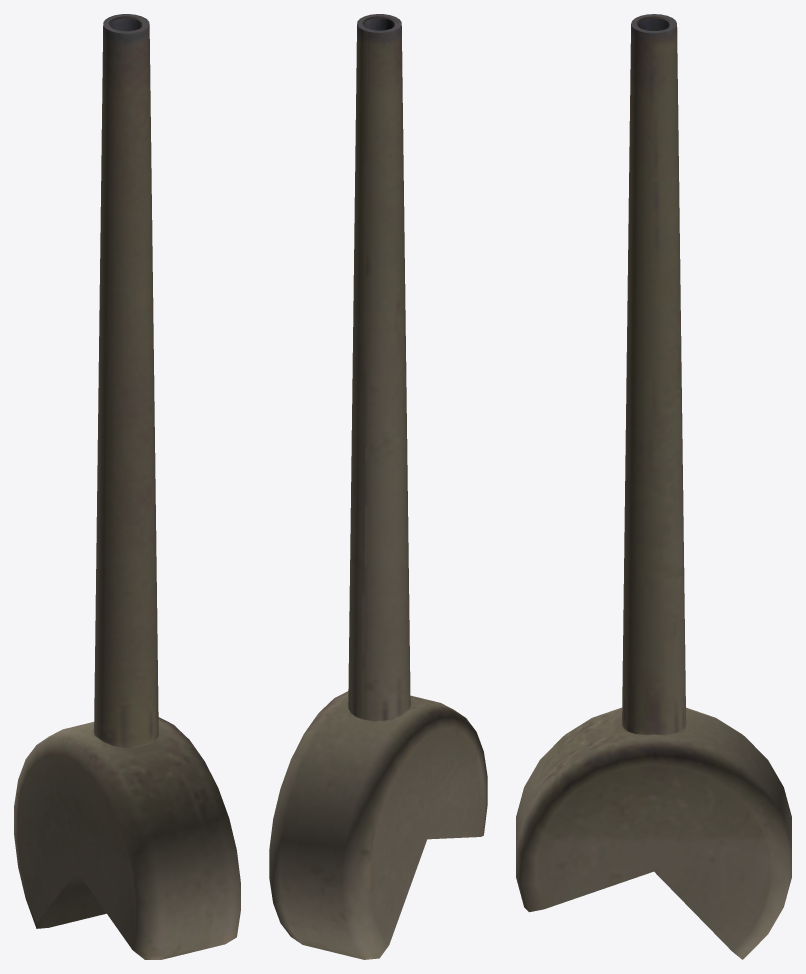
The model's file is Gun_01.glb.
3 views of the same model, side by side, from view 1: azimuth 30°, elevation 25°; view 2: azimuth 150°, elevation 25°; view 3: azimuth 270°, elevation 25° (orthographic). The views are drawn at different scales.
Parts seen in each view (by area): view 1: set_0_group_0; view 2: set_0_group_0; view 3: set_0_group_0.
Boxes of the visible parts, x1=… form: set_0_group_0: x1=14, y1=14, x2=240, y2=959; set_0_group_0: x1=269, y1=14, x2=487, y2=959; set_0_group_0: x1=516, y1=14, x2=791, y2=959.
Size of the model in its own units: 0.272 by 2.38 by 0.6497.
Materials: 1 (1 with a texture image).
